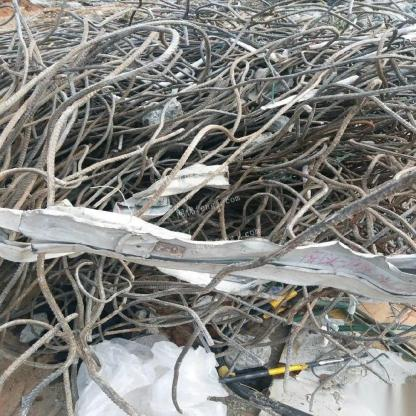rebar: (1, 3, 416, 261), (0, 244, 416, 416)
